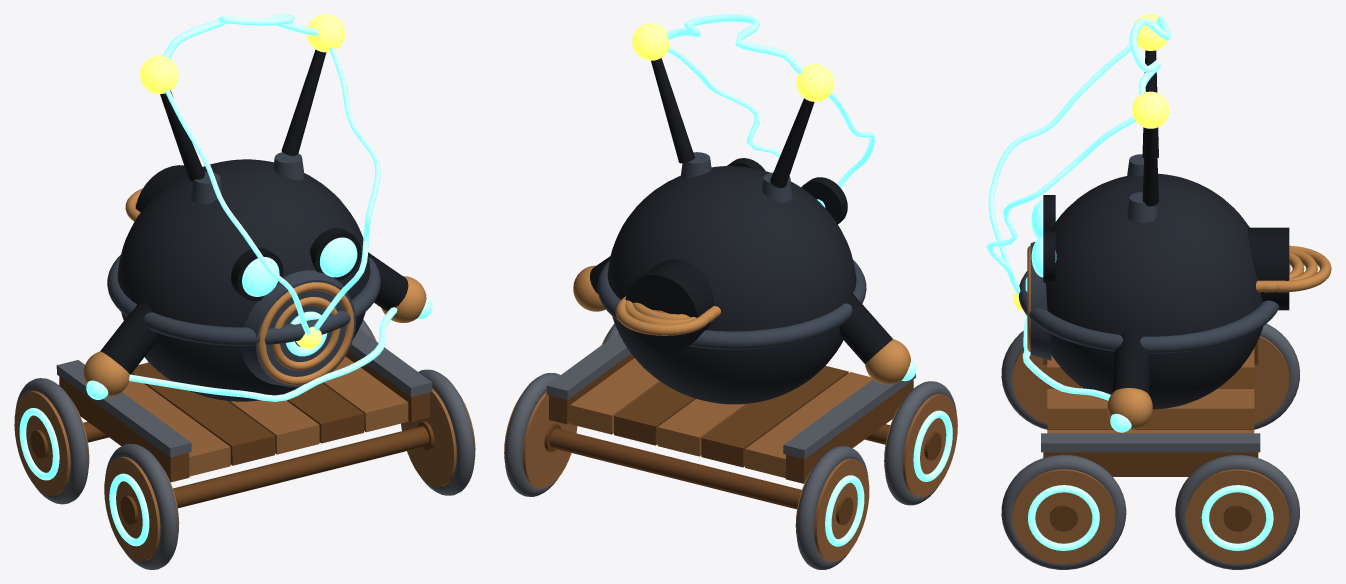
Rendered from sapper.glb.
3 views of the same model, side by side, from view 1: azimuth 30°, elevation 25°; view 2: azimuth 150°, elevation 25°; view 3: azimuth 270°, elevation 25° (orthographic). The views are drawn at different scales.
Visible parts, largest first — view 1: body_shell, axle_front, body_rim, chest_plate, deck_plank_2, deck_plank_1, wheel_rear_l, wheel_front_l, rail_band_l, deck_plank_5, wheel_rim_rear_l, wheel_rim_front_l (+30 smaller); view 2: body_shell, axle_rear, back_coil_housing, deck_plank_2, body_rim, deck_plank_1, deck_plank_5, wheel_rear_l, wheel_front_l, rail_band_l, wheel_rear_r, wheel_rim_front_l (+24 smaller); view 3: body_shell, wheel_rear_r, wheel_front_r, body_rim, rail_band_r, wheel_rim_front_r, wheel_rim_rear_r, deck_plank_4, deck_rail_r, back_coil_housing, deck_plank_3, wheel_rear_l (+26 smaller).
Part boxes in pixels (bbox=[...]): body_shell: bbox=[117, 159, 370, 401]; axle_front: bbox=[173, 426, 429, 508]; body_rim: bbox=[107, 255, 380, 345]; chest_plate: bbox=[242, 270, 355, 387]; deck_plank_2: bbox=[131, 362, 274, 465]; deck_plank_1: bbox=[122, 374, 230, 476]; wheel_rear_l: bbox=[14, 391, 89, 495]; wheel_front_l: bbox=[104, 456, 179, 561]; rail_band_l: bbox=[56, 360, 191, 457]; deck_plank_5: bbox=[322, 356, 408, 432]; wheel_rim_rear_l: bbox=[15, 378, 88, 504]; wheel_rim_front_l: bbox=[105, 444, 178, 569]; body_shell: bbox=[607, 166, 856, 404]; axle_rear: bbox=[549, 428, 801, 509]; back_coil_housing: bbox=[625, 259, 713, 352]; deck_plank_2: bbox=[701, 365, 848, 467]; body_rim: bbox=[597, 260, 866, 349]; deck_plank_1: bbox=[745, 372, 872, 477]; deck_plank_5: bbox=[570, 358, 660, 434]; wheel_rear_l: bbox=[795, 458, 869, 561]; wheel_front_l: bbox=[884, 394, 957, 497]; rail_band_l: bbox=[783, 373, 915, 459]; wheel_rear_r: bbox=[504, 392, 577, 488]; wheel_rim_front_l: bbox=[884, 381, 956, 505]; body_shell: bbox=[1045, 173, 1263, 409]; wheel_rear_r: bbox=[1186, 469, 1289, 564]; wheel_front_r: bbox=[1012, 469, 1115, 564]; body_rim: bbox=[1018, 271, 1279, 353]; rail_band_r: bbox=[1041, 433, 1260, 452]; wheel_rim_front_r: bbox=[1001, 455, 1126, 569]; wheel_rim_rear_r: bbox=[1175, 455, 1299, 569]; deck_plank_4: bbox=[1047, 409, 1254, 429]; deck_rail_r: bbox=[1043, 452, 1258, 476]; back_coil_housing: bbox=[1248, 227, 1289, 310]; deck_plank_3: bbox=[1047, 388, 1254, 409]; wheel_rear_l: bbox=[1254, 336, 1289, 423].
Size of the model in its own units: 0.926 by 1.26 by 0.8343.
